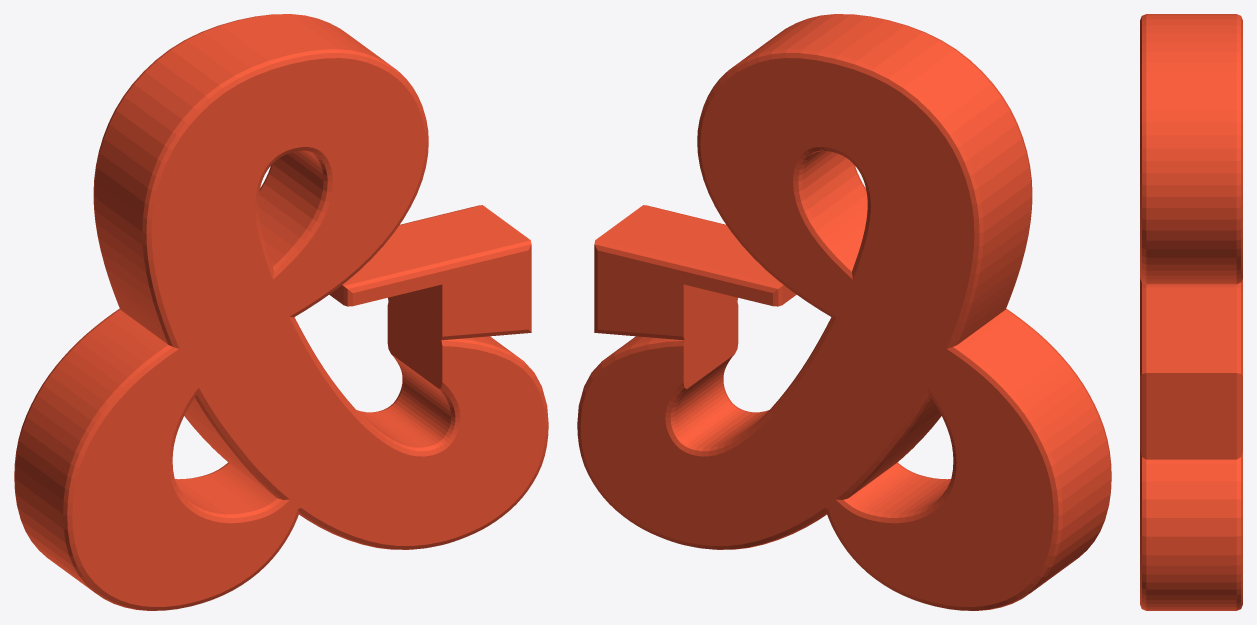
Rendered from amp.glb.
3 views of the same model, side by side, from view 1: azimuth 30°, elevation 25°; view 2: azimuth 150°, elevation 25°; view 3: azimuth 270°, elevation 25° (orthographic). The views are drawn at different scales.
Visible parts, largest first — view 1: piece_01, piece_13, piece_22, piece_31, piece_12, piece_11, piece_10, piece_20, piece_23, piece_00, piece_30, piece_02 (+3 smaller); view 2: piece_01, piece_13, piece_22, piece_31, piece_12, piece_11, piece_10, piece_20, piece_23, piece_00, piece_30, piece_02 (+3 smaller); view 3: piece_23, piece_31, piece_22, piece_30, piece_32, piece_13, piece_11.
Boxes of the visible parts, left/top/right/bottom form: piece_01: left=14, top=312, right=175, bottom=519; piece_13: left=122, top=16, right=308, bottom=204; piece_22: left=259, top=142, right=442, bottom=308; piece_31: left=387, top=262, right=546, bottom=424; piece_12: left=174, top=183, right=308, bottom=349; piece_11: left=174, top=318, right=308, bottom=493; piece_10: left=174, top=437, right=308, bottom=609; piece_20: left=306, top=407, right=442, bottom=549; piece_23: left=255, top=14, right=428, bottom=167; piece_00: left=14, top=481, right=175, bottom=610; piece_30: left=389, top=387, right=548, bottom=544; piece_02: left=93, top=172, right=175, bottom=350; piece_01: left=950, top=312, right=1111, bottom=519; piece_13: left=817, top=16, right=1003, bottom=204; piece_22: left=683, top=142, right=866, bottom=308; piece_31: left=579, top=262, right=738, bottom=424; piece_12: left=817, top=183, right=951, bottom=349; piece_11: left=817, top=318, right=951, bottom=493; piece_10: left=817, top=437, right=951, bottom=609; piece_20: left=683, top=407, right=819, bottom=549; piece_23: left=697, top=14, right=870, bottom=167; piece_00: left=950, top=481, right=1111, bottom=610; piece_30: left=577, top=387, right=736, bottom=544; piece_02: left=950, top=172, right=1032, bottom=350; piece_23: left=1140, top=42, right=1242, bottom=208; piece_31: left=1140, top=389, right=1242, bottom=533; piece_22: left=1140, top=206, right=1242, bottom=336; piece_30: left=1140, top=531, right=1242, bottom=610; piece_32: left=1140, top=331, right=1242, bottom=390; piece_13: left=1140, top=14, right=1242, bottom=46; piece_11: left=1140, top=280, right=1242, bottom=294.
Bounding box in the file's own units: 0.9884 × 1.03 × 0.194.
